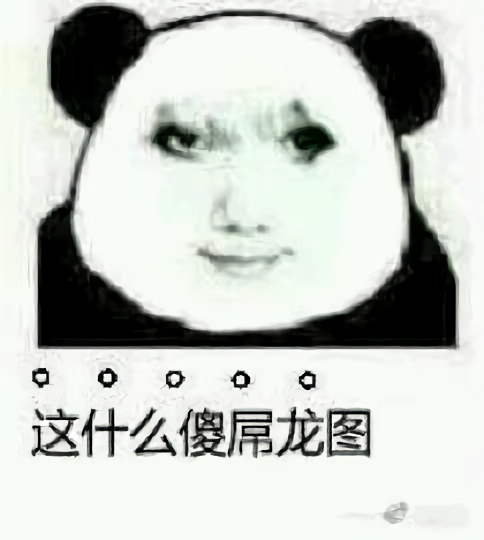dragon: (140, 95, 352, 287)
